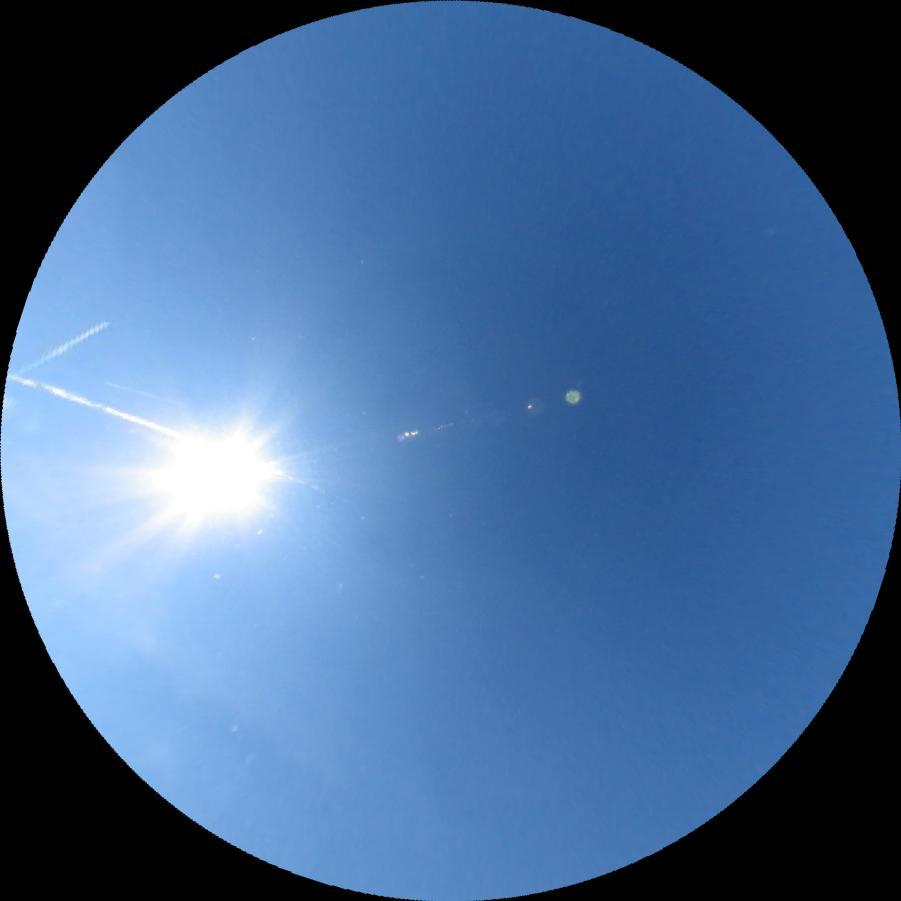contrail young: (12, 319, 111, 381)
parasite: (4, 371, 179, 438), (105, 379, 181, 408), (274, 467, 325, 492)
sun: (145, 406, 282, 543)
